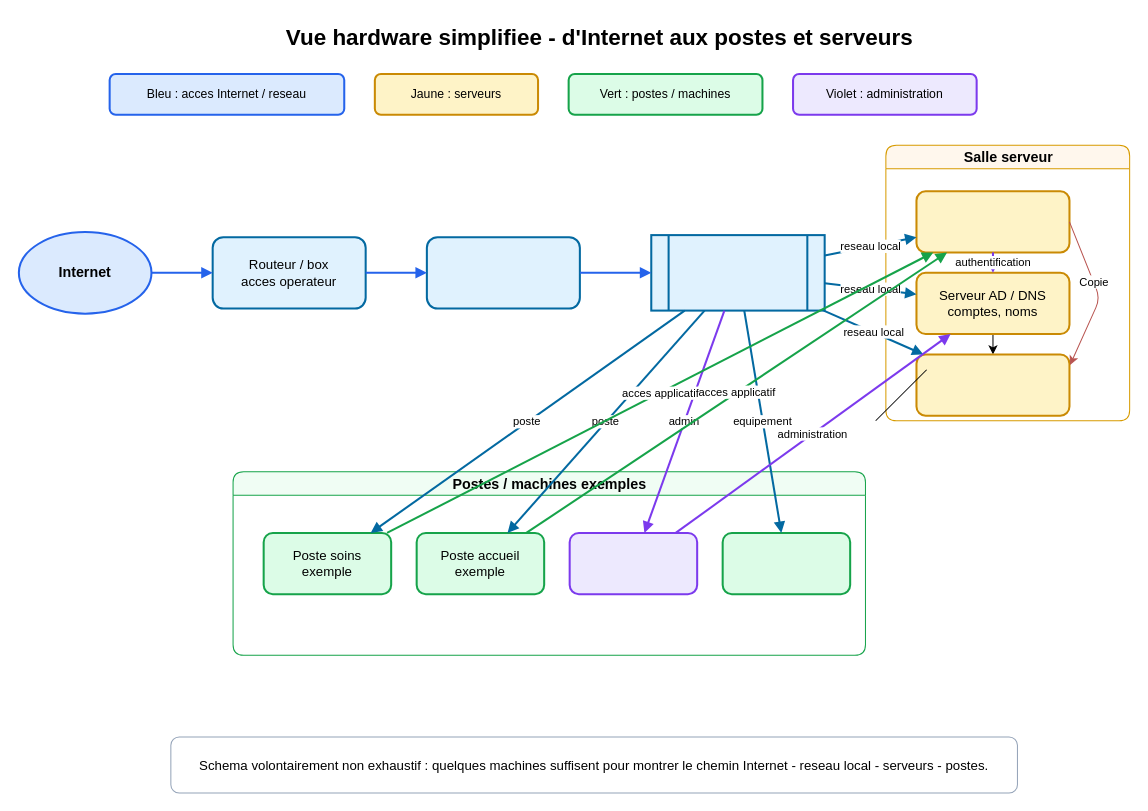
This 1148x811 diagram has some shape labels left out. The centre of each missing label's shape, as x and y in pixels:
Imprimante / equipement exemple: point 786,563
Pare-feu filtrage: point 502,272
Poste admin IT exemple: point 633,563
Serveur applicatif DPI, metiers: point 992,221
Serveur sauvegarde copies: point 992,384
Switch coeur reseau reseau local: point 737,272
